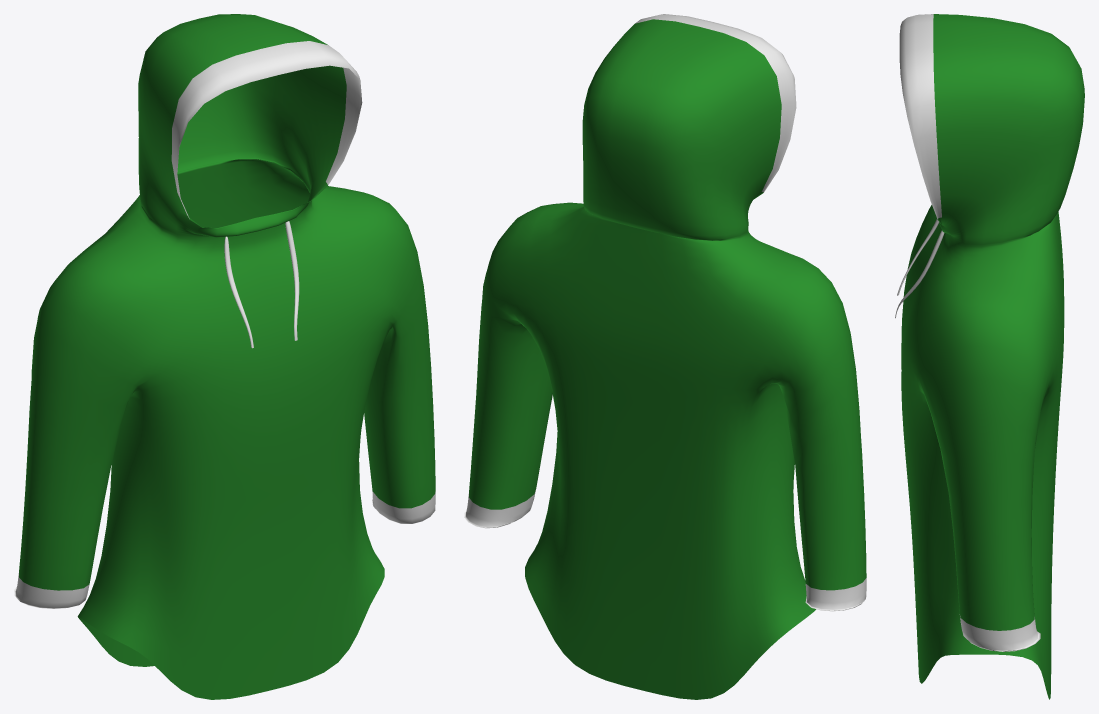
Rendered from Top1.fbx.
3 renders of one model, left to right at view 1: azimuth 30°, elevation 25°; view 2: azimuth 150°, elevation 25°; view 3: azimuth 270°, elevation 25°, orthographic. The views are drawn at different scales.
Parts seen in each view (by area): view 1: node-0; view 2: node-0; view 3: node-0.
Part boxes in pixels (box(x1,y1,x2,y2)): node-0: box(14, 14, 435, 699); node-0: box(464, 14, 866, 699); node-0: box(895, 14, 1084, 699).
Bounding box in the file's own units: 228 × 347 × 93.06.
